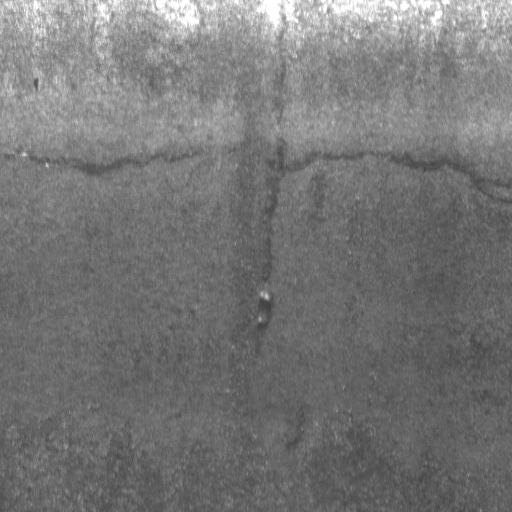aokeng: (254, 280, 280, 335)
